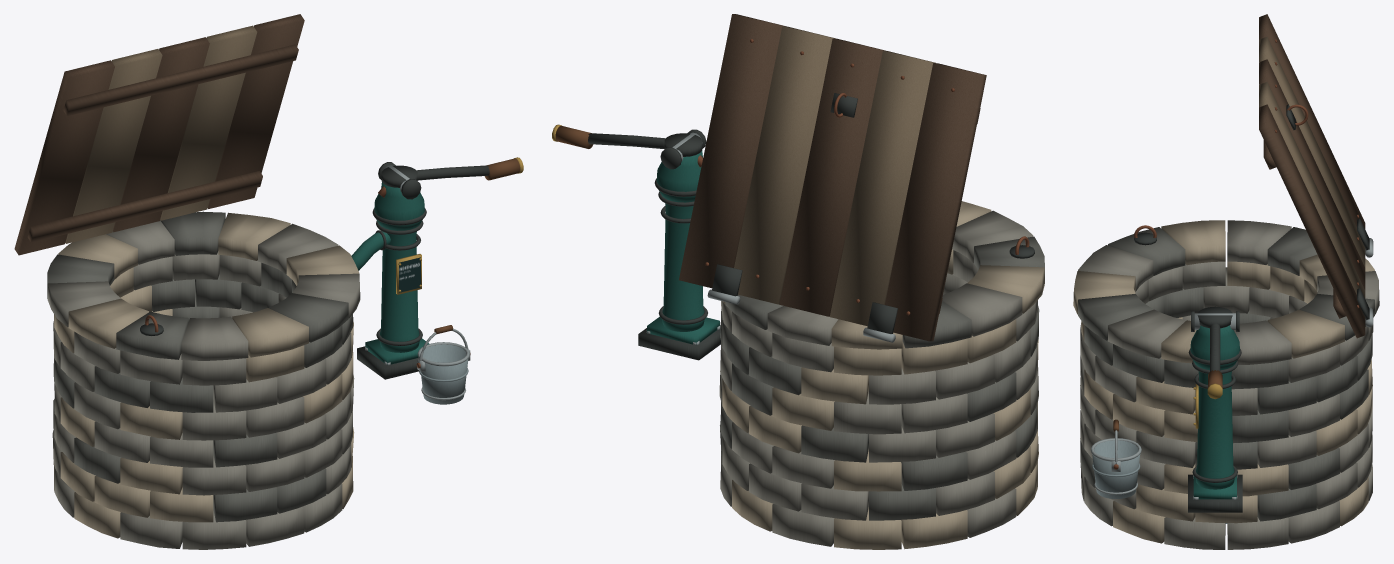
File: PZ_Water_Well_Hand_Pump_HWP26.glb
3 renders of one model, left to right at view 1: azimuth 30°, elevation 25°; view 2: azimuth 150°, elevation 25°; view 3: azimuth 270°, elevation 25°, orthographic. The views are drawn at different scales.
Visible parts, largest first — view 1: COVER_FULL_LENGTH_PLANK_01, COVER_FULL_LENGTH_PLANK_05, COVER_FULL_LENGTH_PLANK_02, COVER_FULL_LENGTH_PLANK_03, COVER_FULL_LENGTH_PLANK_04, COVER_BACKSIDE_CROSS_CLEAT_2, COVER_BACKSIDE_CROSS_CLEAT_1, PUMP_TAPERED_WELL_COLUMN, WELL_CAPSTONE_10, WELL_CAPSTONE_11, WELL_CAPSTONE_08, WELL_CAPSTONE_09 (+62 smaller); view 2: COVER_FULL_LENGTH_PLANK_01, COVER_FULL_LENGTH_PLANK_04, COVER_FULL_LENGTH_PLANK_02, COVER_FULL_LENGTH_PLANK_05, COVER_FULL_LENGTH_PLANK_03, PUMP_TAPERED_WELL_COLUMN, WELL_CAPSTONE_07, WELL_CAPSTONE_08, WELL_REAL_STONE_ROW05_BLOCK05, WELL_REAL_STONE_ROW03_BLOCK05, WELL_REAL_STONE_ROW01_BLOCK05, WELL_REAL_STONE_ROW06_BLOCK05 (+50 smaller); view 3: COVER_FULL_LENGTH_PLANK_05, PUMP_TAPERED_WELL_COLUMN, COVER_FULL_LENGTH_PLANK_02, COVER_FULL_LENGTH_PLANK_04, COVER_FULL_LENGTH_PLANK_03, COVER_FULL_LENGTH_PLANK_01, WELL_CAPSTONE_13, WELL_CAPSTONE_02, WELL_CAPSTONE_08, WELL_CAPSTONE_07, BUCKET_CLOSED_SHELL_WITH_OPEN_TOP_CAVITY, WELL_CAPSTONE_01 (+65 smaller).
Part boxes in pixels (x1,y1,x2,y2): COVER_FULL_LENGTH_PLANK_01: (14, 60, 114, 255); COVER_FULL_LENGTH_PLANK_05: (207, 14, 304, 208); COVER_FULL_LENGTH_PLANK_02: (65, 49, 162, 243); COVER_FULL_LENGTH_PLANK_03: (113, 37, 209, 232); COVER_FULL_LENGTH_PLANK_04: (160, 25, 257, 220); COVER_BACKSIDE_CROSS_CLEAT_2: (63, 44, 298, 115); COVER_BACKSIDE_CROSS_CLEAT_1: (27, 171, 262, 242); PUMP_TAPERED_WELL_COLUMN: (380, 231, 419, 352); WELL_CAPSTONE_10: (181, 316, 248, 360); WELL_CAPSTONE_11: (232, 308, 308, 357); WELL_CAPSTONE_08: (68, 298, 148, 348); WELL_CAPSTONE_09: (116, 311, 188, 359); COVER_FULL_LENGTH_PLANK_01: (885, 63, 986, 341); COVER_FULL_LENGTH_PLANK_04: (734, 26, 835, 304); COVER_FULL_LENGTH_PLANK_02: (829, 51, 935, 326); COVER_FULL_LENGTH_PLANK_05: (679, 14, 785, 288); COVER_FULL_LENGTH_PLANK_03: (779, 38, 885, 316); PUMP_TAPERED_WELL_COLUMN: (662, 203, 704, 331); WELL_CAPSTONE_07: (942, 283, 1022, 336); WELL_CAPSTONE_08: (967, 265, 1044, 313); WELL_REAL_STONE_ROW05_BLOCK05: (834, 391, 901, 434); WELL_REAL_STONE_ROW03_BLOCK05: (834, 449, 901, 491); WELL_REAL_STONE_ROW01_BLOCK05: (834, 507, 901, 549); WELL_REAL_STONE_ROW06_BLOCK05: (869, 368, 935, 404); COVER_FULL_LENGTH_PLANK_05: (1259, 104, 1365, 338); PUMP_TAPERED_WELL_COLUMN: (1195, 371, 1234, 489); COVER_FULL_LENGTH_PLANK_02: (1259, 36, 1365, 267); COVER_FULL_LENGTH_PLANK_04: (1259, 81, 1365, 298); COVER_FULL_LENGTH_PLANK_03: (1259, 59, 1365, 289); COVER_FULL_LENGTH_PLANK_01: (1259, 14, 1365, 228); WELL_CAPSTONE_13: (1108, 309, 1185, 358); WELL_CAPSTONE_02: (1267, 309, 1344, 358); WELL_CAPSTONE_08: (1161, 220, 1225, 265); WELL_CAPSTONE_07: (1227, 220, 1291, 264); BUCKET_CLOSED_SHELL_WITH_OPEN_TOP_CAVITY: (1092, 440, 1140, 498); WELL_CAPSTONE_01: (1234, 320, 1291, 364).
Bounding box in the file's own units: 3.35 × 3.08 × 2.04.
Materials: 1 (1 with a texture image).
